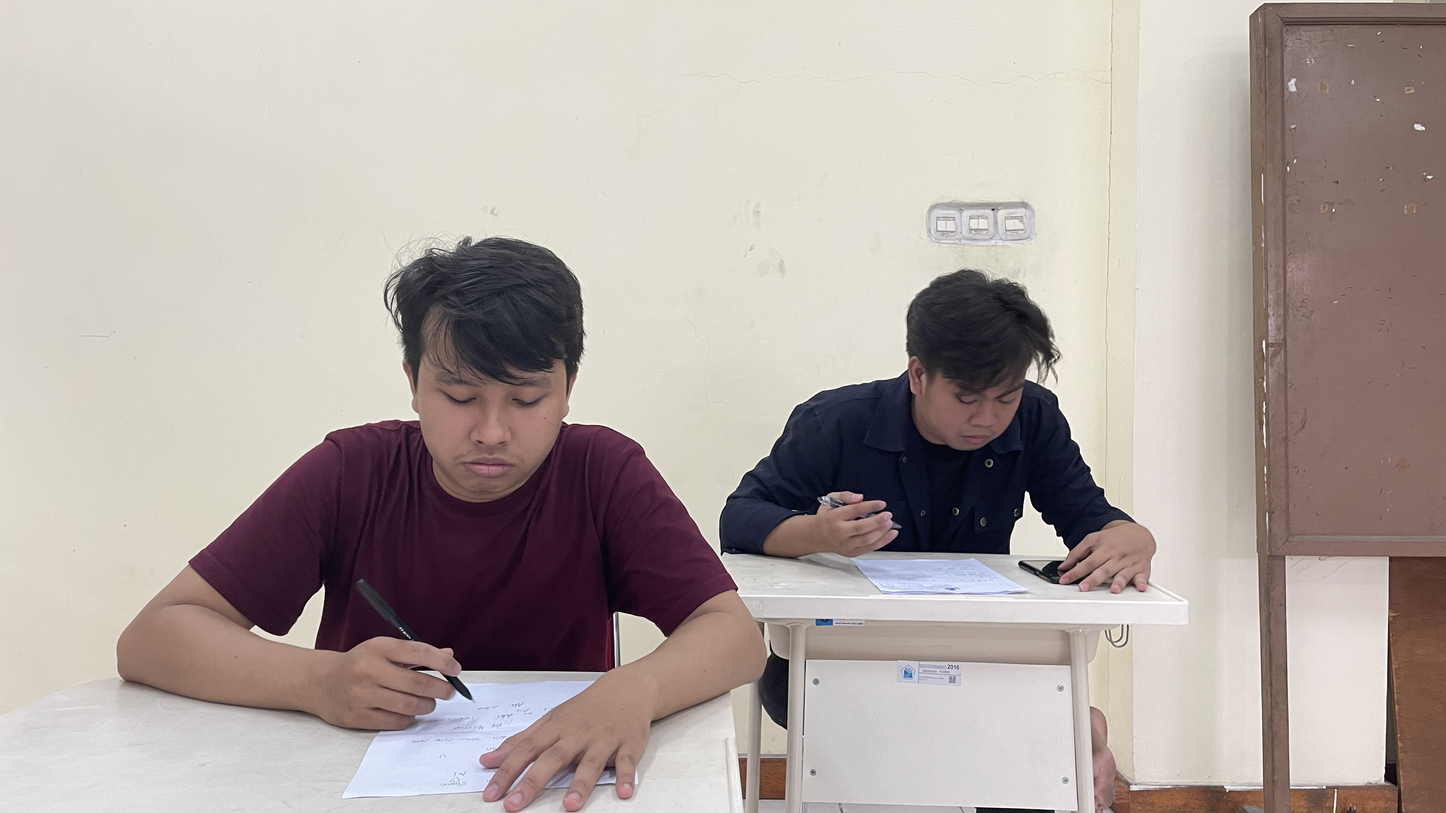phone: (1022, 558, 1088, 589)
